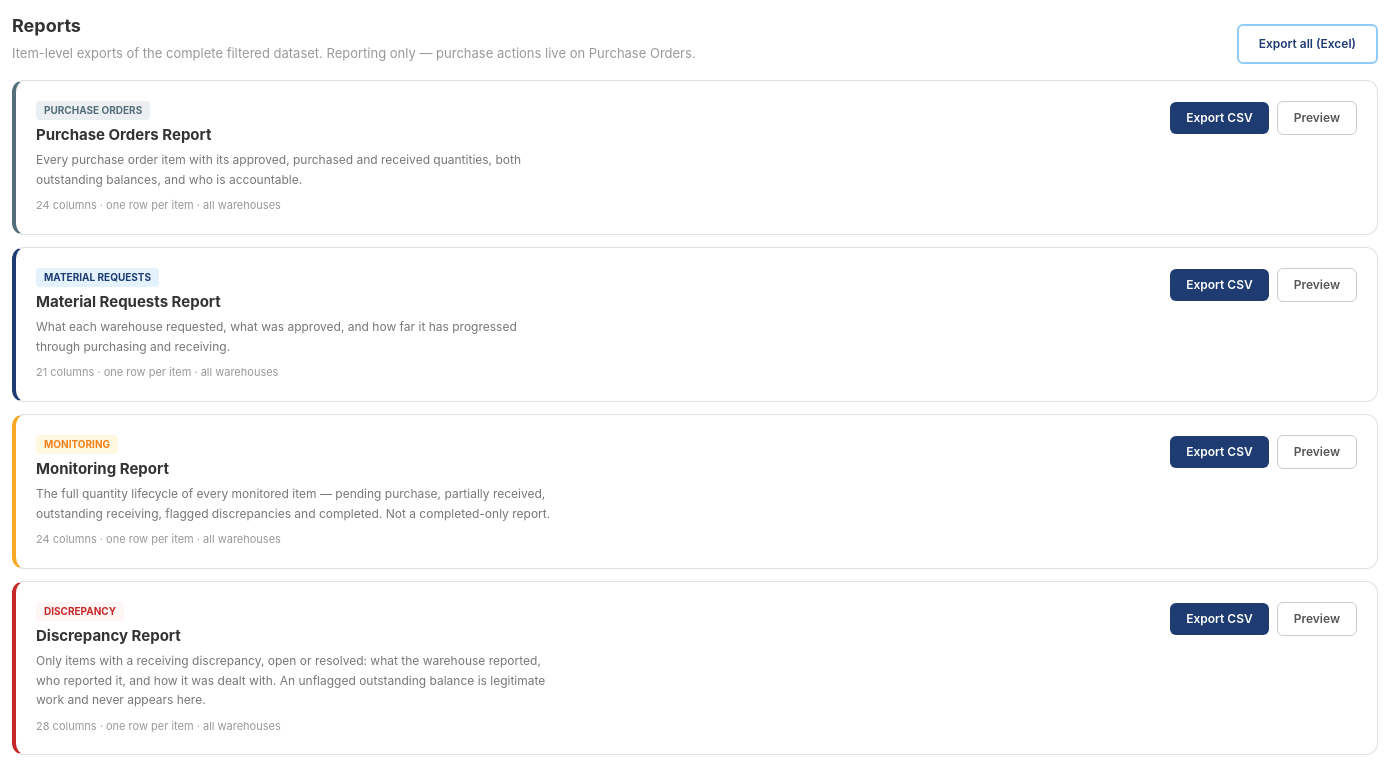
Scenario: P6-01 — CSV export › a failed export shows an error and never a truncation notice
The width and height of the screenshot is (1390, 780).
Click the button "Export CSV" in the row of "Purchase Orders Report": (1219, 118) [1170,102,1269,134]
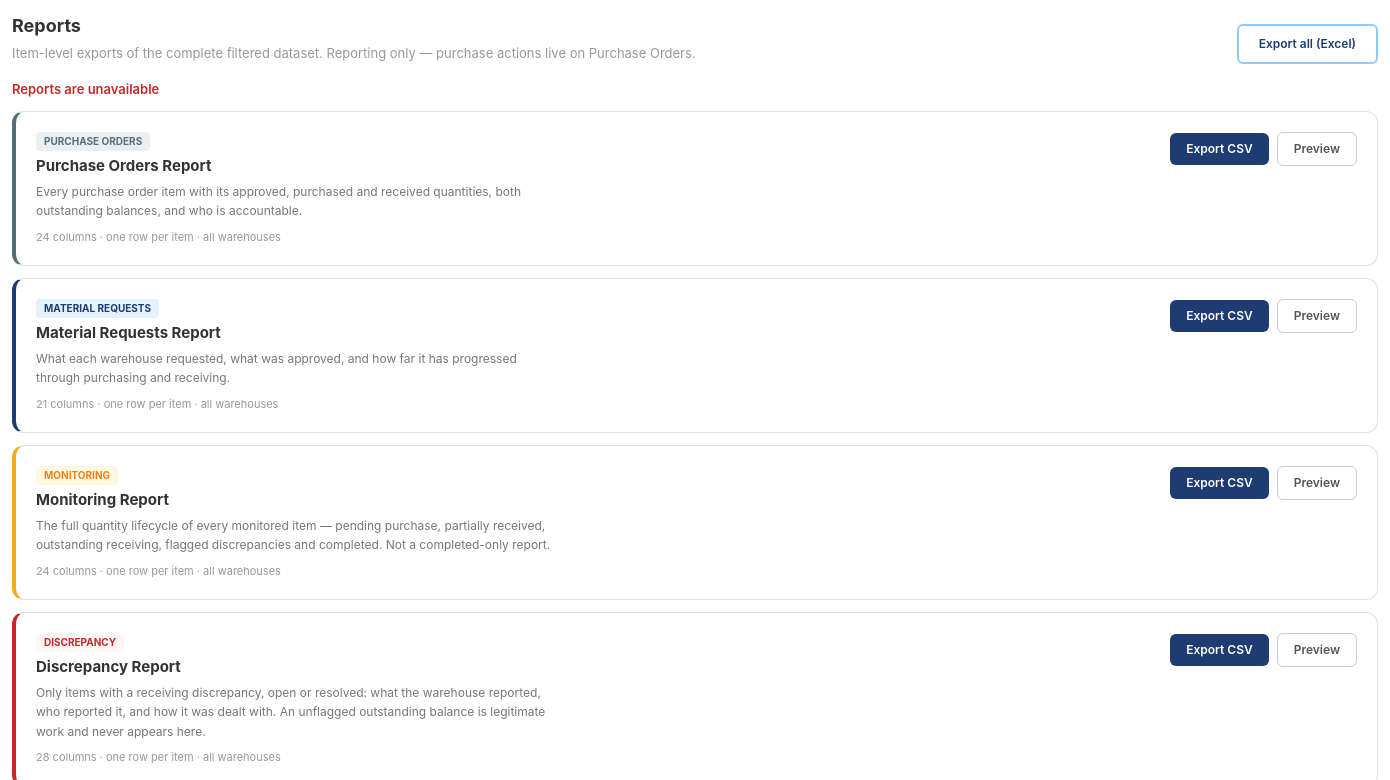
Result: the text "Reports are unavailable" is shown at [12,80,159,96]
